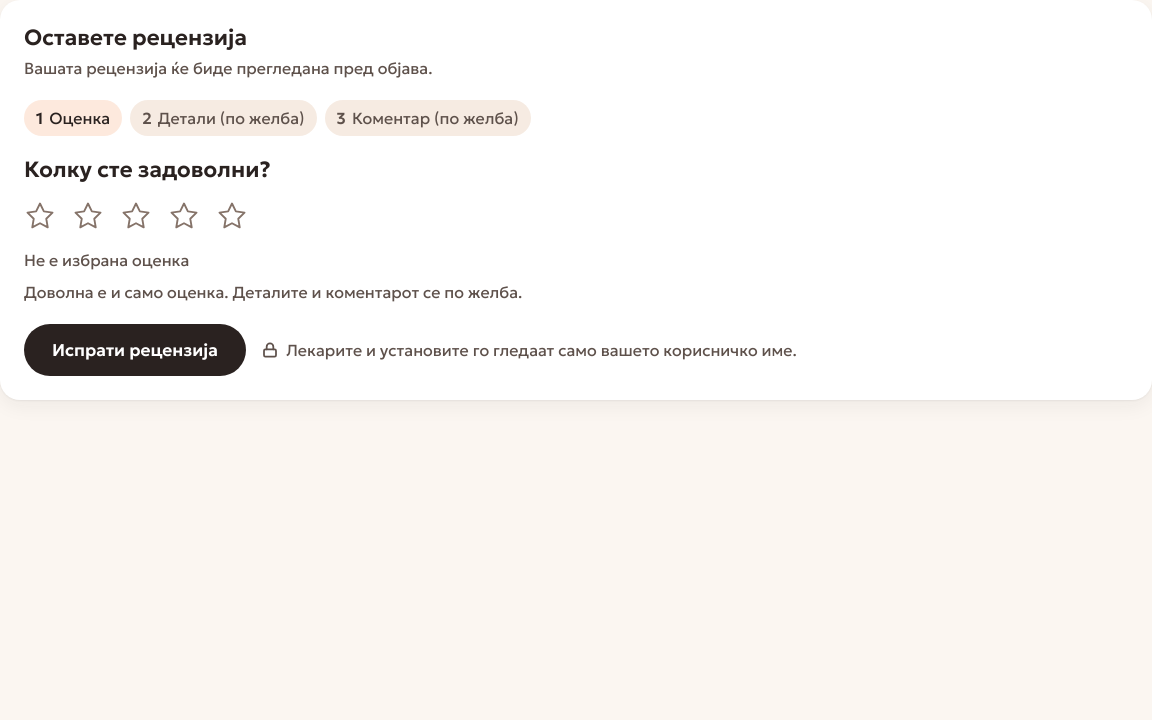
Test: ReviewForm › clears the rating error once a star is chosen
This screenshot has width=1152, height=720.
Click the button "Испрати рецензија" at {"x": 135, "y": 350}, box [24,324,246,376]
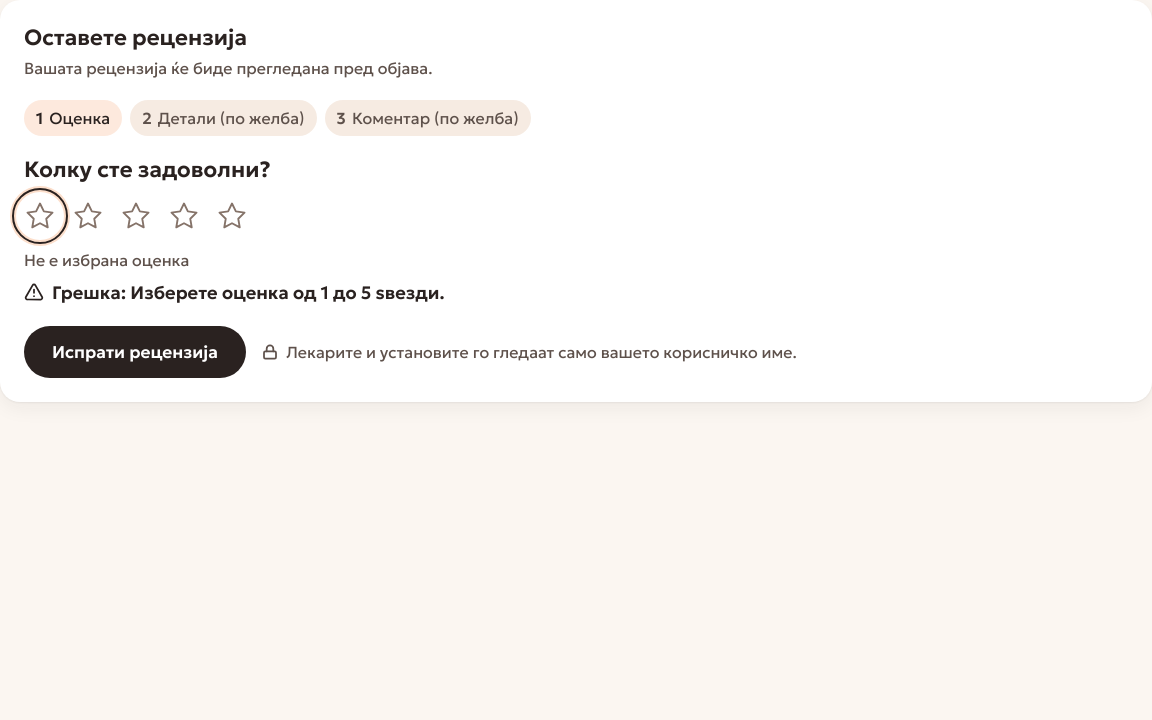
Click the radio button named "4 ѕвезди од 5" at {"x": 184, "y": 216}, box [160,192,208,240]
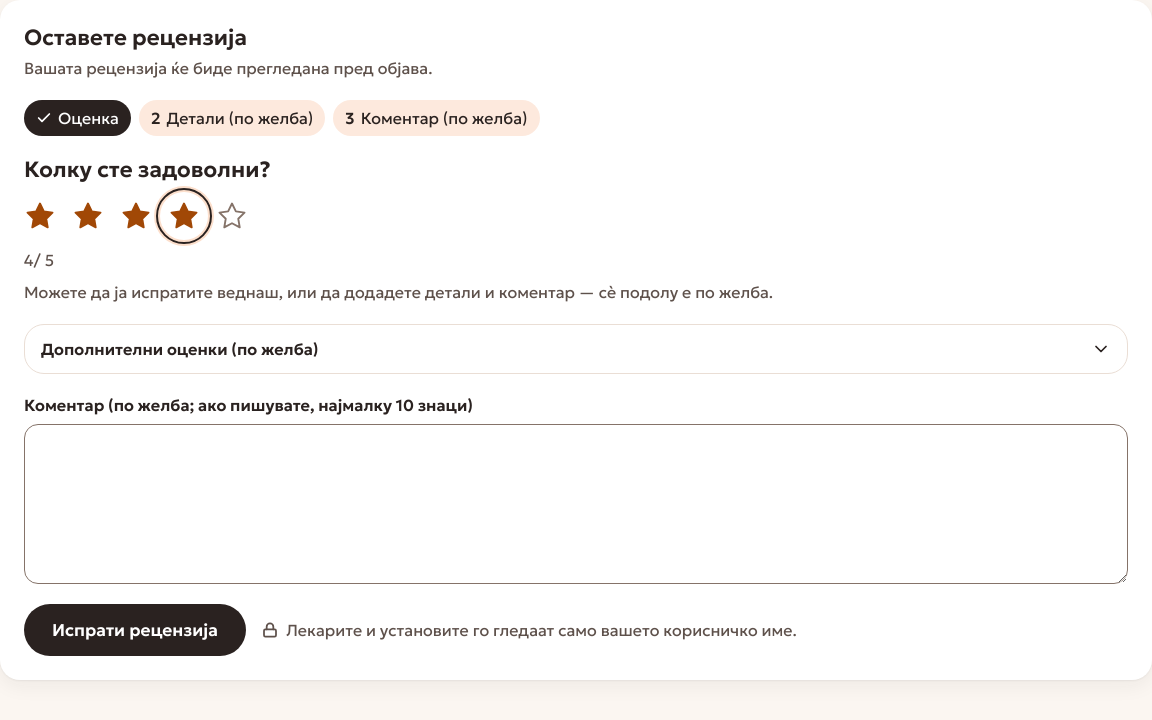
Check: the message "Грешка: Изберете оценка од 1 до 5 ѕвезди." is gone
